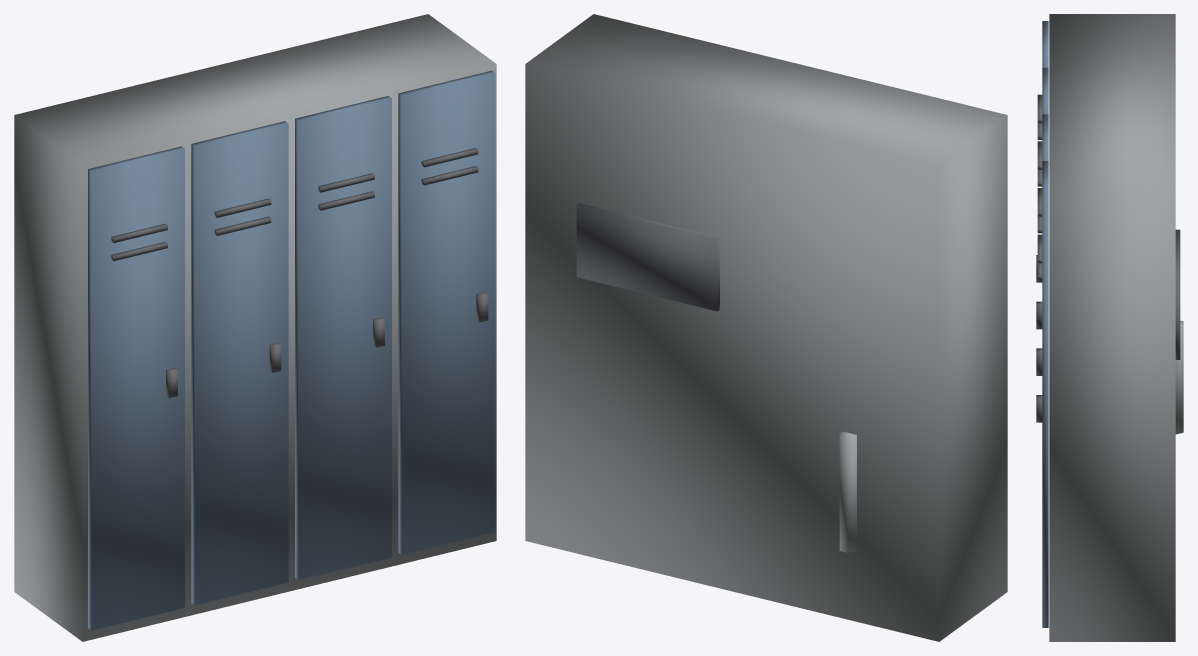
Rendered from evidence_locker__service.glb.
3 views of the same model, side by side, from view 1: azimuth 30°, elevation 25°; view 2: azimuth 150°, elevation 25°; view 3: azimuth 270°, elevation 25° (orthographic). The views are drawn at different scales.
Parts seen in each view (by area): view 1: world; view 2: world; view 3: world.
Part boxes in pixels (<box>): world: <box>14,14,496,641</box>; world: <box>525,14,1007,641</box>; world: <box>1036,14,1183,641</box>.
Bounding box in the file's own units: 1.68 × 1.85 × 0.5603.
